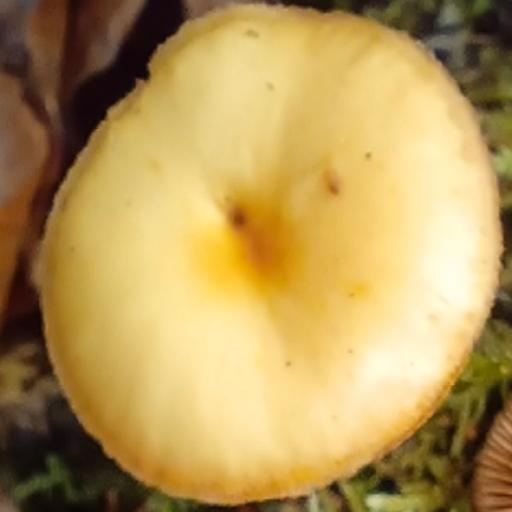mushroom: (37, 3, 500, 508)
